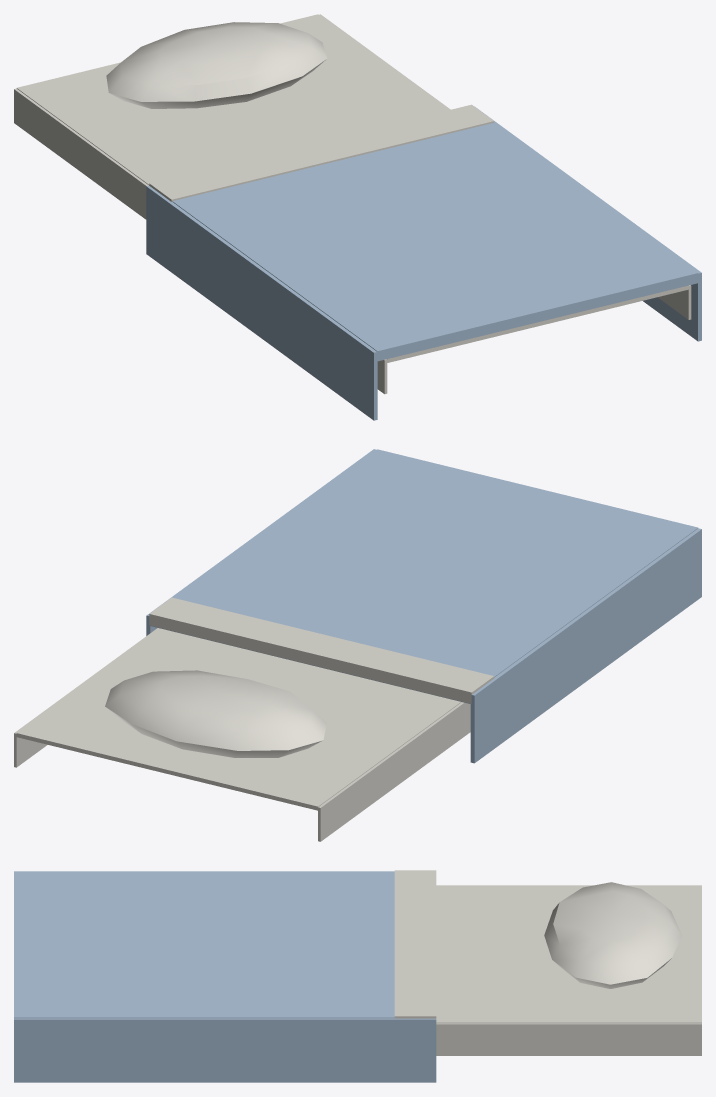
File: bedding.fbx
3 renders of one model, top to bottom at view 1: azimuth 30°, elevation 25°; view 2: azimuth 150°, elevation 25°; view 3: azimuth 270°, elevation 25°, orthographic. The views are drawn at different scales.
Parts seen in each view (by area): view 1: bedding; view 2: bedding; view 3: bedding.
Part boxes in pixels (x1,y1,x2,y2): bedding: (14, 14, 701, 420); bedding: (14, 449, 701, 841); bedding: (14, 870, 701, 1082).
Bounding box in the file's own units: 101 × 29.99 × 198.
